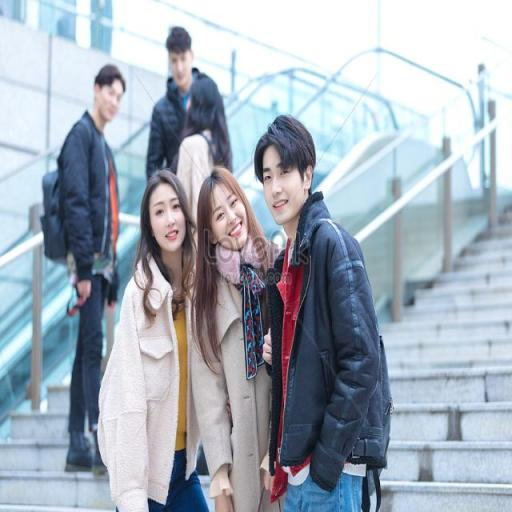person: (253, 106, 390, 512), (102, 172, 211, 512), (194, 168, 291, 512), (39, 64, 114, 477), (146, 27, 219, 193), (180, 76, 233, 248)
